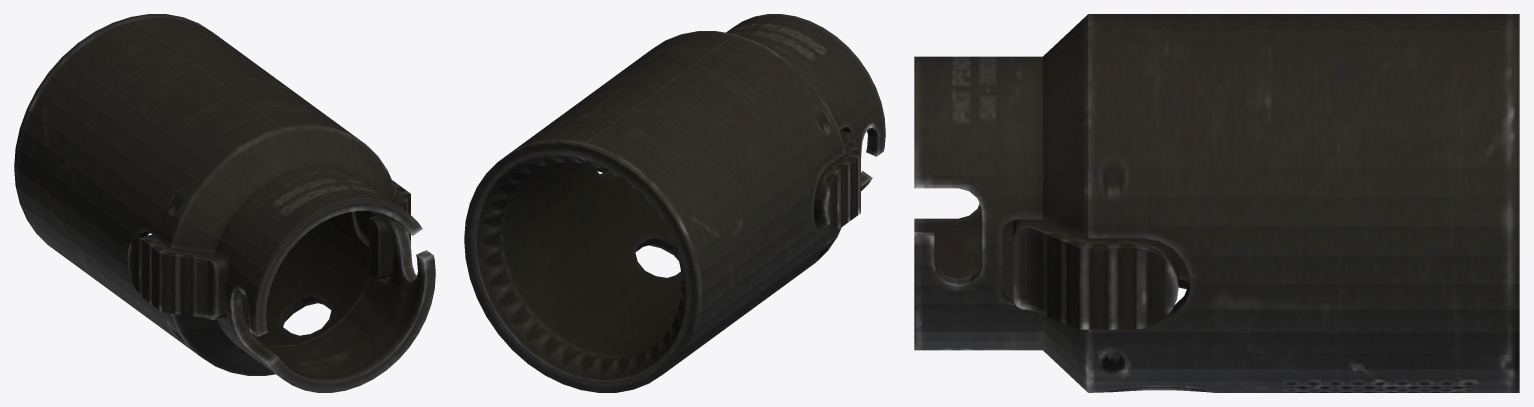
3 views of the same model, side by side, from view 1: azimuth 30°, elevation 25°; view 2: azimuth 150°, elevation 25°; view 3: azimuth 270°, elevation 25° (orthographic). The views are drawn at different scales.
Parts seen in each view (by area): view 1: TW_5cf78720d7f00c06595bc93e_PZ_Import; view 2: TW_5cf78720d7f00c06595bc93e_PZ_Import; view 3: TW_5cf78720d7f00c06595bc93e_PZ_Import.
Boxes of the visible parts, left/top/right/bottom form: TW_5cf78720d7f00c06595bc93e_PZ_Import: left=14, top=14, right=435, bottom=392; TW_5cf78720d7f00c06595bc93e_PZ_Import: left=464, top=14, right=885, bottom=392; TW_5cf78720d7f00c06595bc93e_PZ_Import: left=914, top=14, right=1519, bottom=392.
Size of the model in its own units: 0.0252 by 0.0377 by 0.0236.
Materials: 1 (1 with a texture image).
